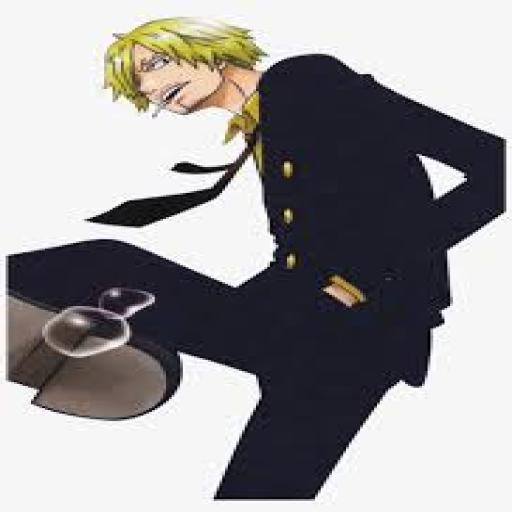sanji: (22, 20, 504, 512)
